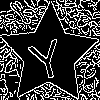Y: (24, 29, 68, 83)
